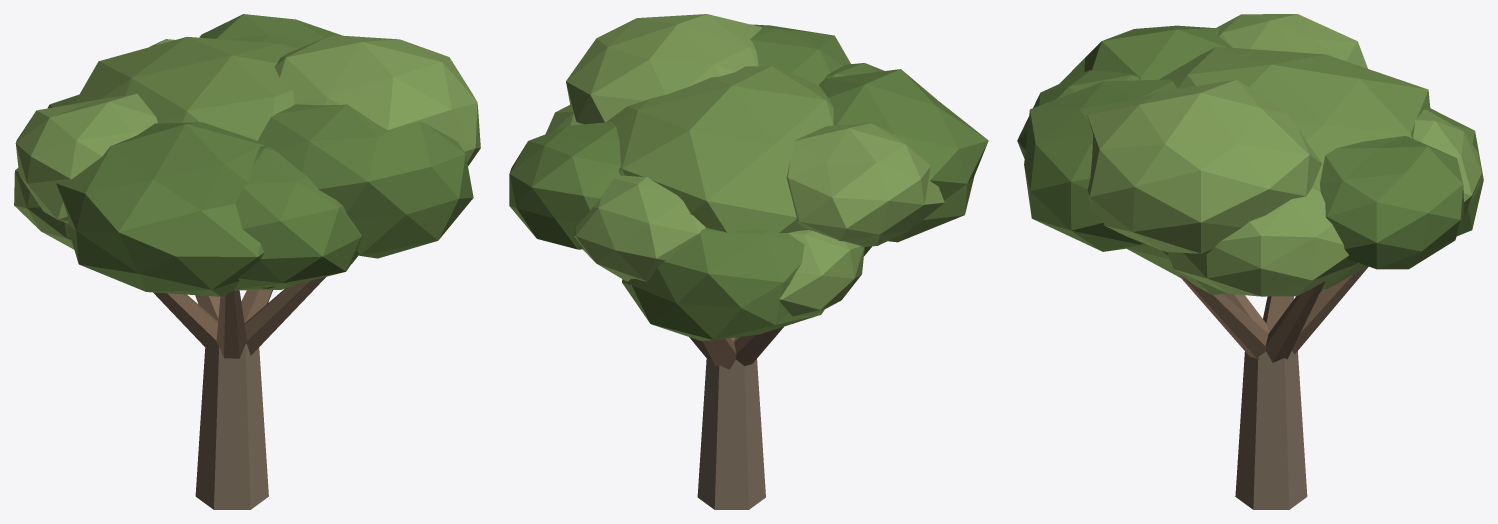
Rendered from cinar-yasli.glb.
3 views of the same model, side by side, from view 1: azimuth 30°, elevation 25°; view 2: azimuth 150°, elevation 25°; view 3: azimuth 270°, elevation 25° (orthographic). The views are drawn at different scales.
Visible parts, largest first — view 1: yaprak2, yaprak3, yaprak1, kabuk, govde; view 2: yaprak3, yaprak2, yaprak1, kabuk, govde; view 3: yaprak3, yaprak2, yaprak1, kabuk, govde.
Boxes of the visible parts, <box> form: yaprak2: <box>48,14,473,296</box>; yaprak3: <box>14,35,480,249</box>; yaprak1: <box>74,36,357,290</box>; kabuk: <box>195,344,268,509</box>; govde: <box>153,276,326,358</box>; yaprak3: <box>545,14,944,316</box>; yaprak2: <box>509,24,988,340</box>; yaprak1: <box>606,66,871,255</box>; kabuk: <box>697,358,765,509</box>; govde: <box>689,326,783,369</box>; yaprak3: <box>1087,14,1481,296</box>; yaprak2: <box>1017,25,1483,269</box>; yaprak1: <box>1127,46,1430,294</box>; kabuk: <box>1235,351,1307,509</box>; govde: <box>1179,266,1368,362</box>.
Size of the model in its own units: 9.93 by 10.6 by 9.99.
